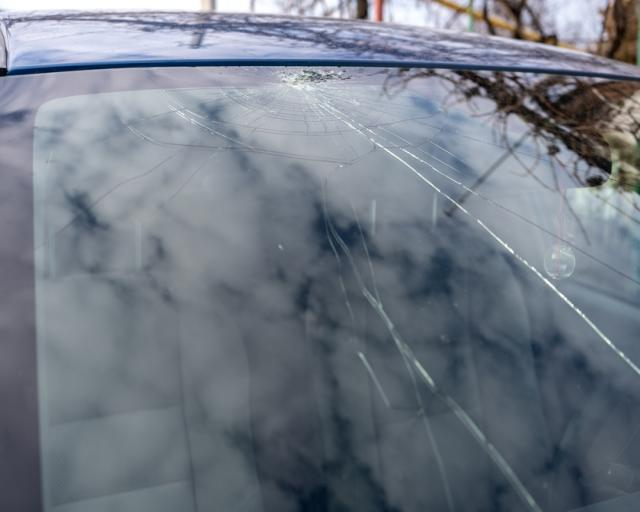glass shatter: (0, 65, 640, 512)
